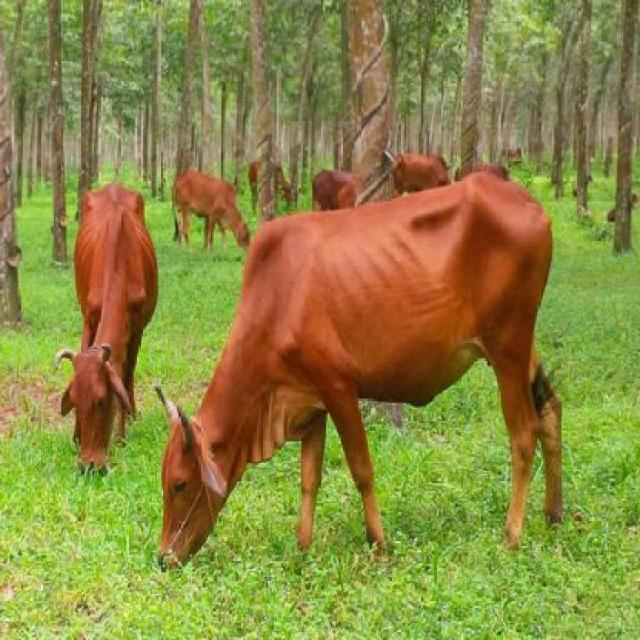Cow: (157, 169, 572, 574), (49, 180, 162, 477), (170, 171, 258, 258)
